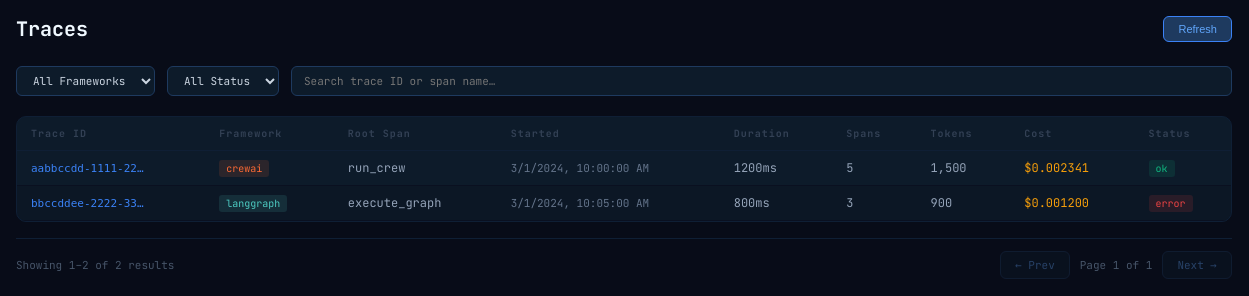
Test: TracesPage › text search filters rows matching on trace_id prefix
The width and height of the screenshot is (1249, 296).
Type "bbccddee" into the field with placeholder "Search trace ID or span name…".
click(762, 81); type("bbccddee")  # box 291,66 -> 1232,96
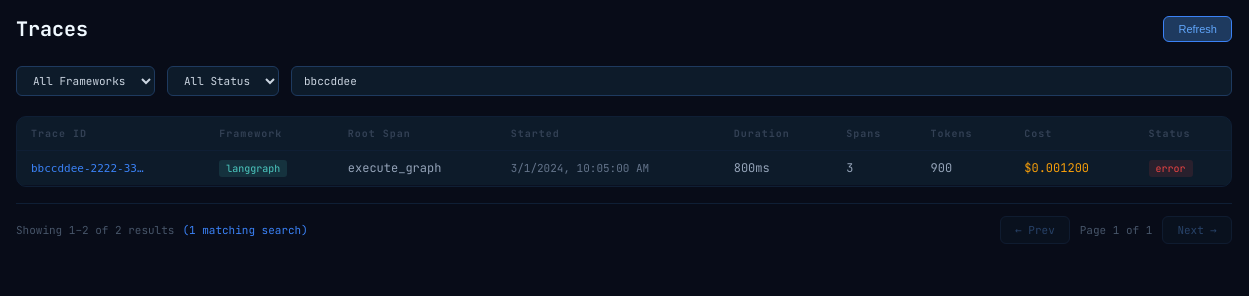
Expected: the text "execute_graph" is shown, 334,150 -> 497,186
Expected: the text "run_crew" is gone
